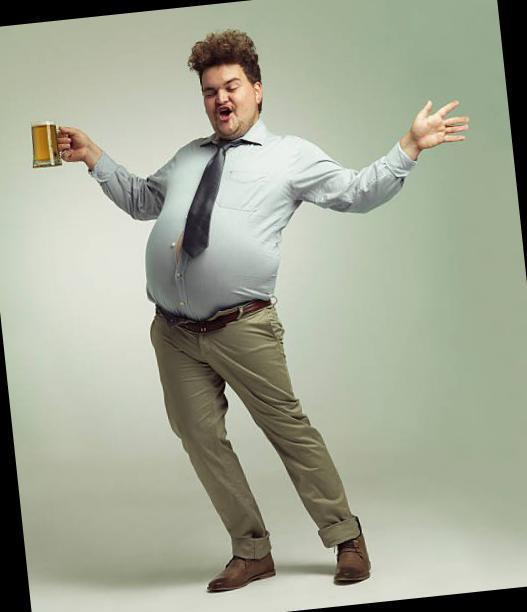Drunk: (202, 70, 253, 137)
